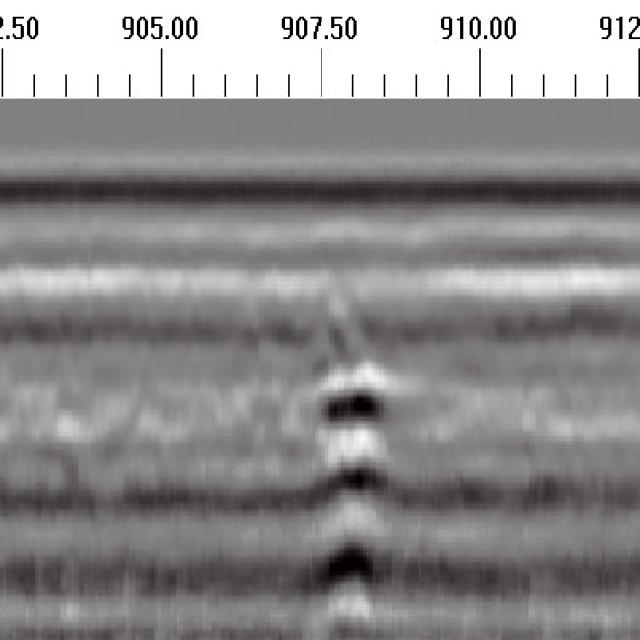crack: (319, 299, 385, 632)
